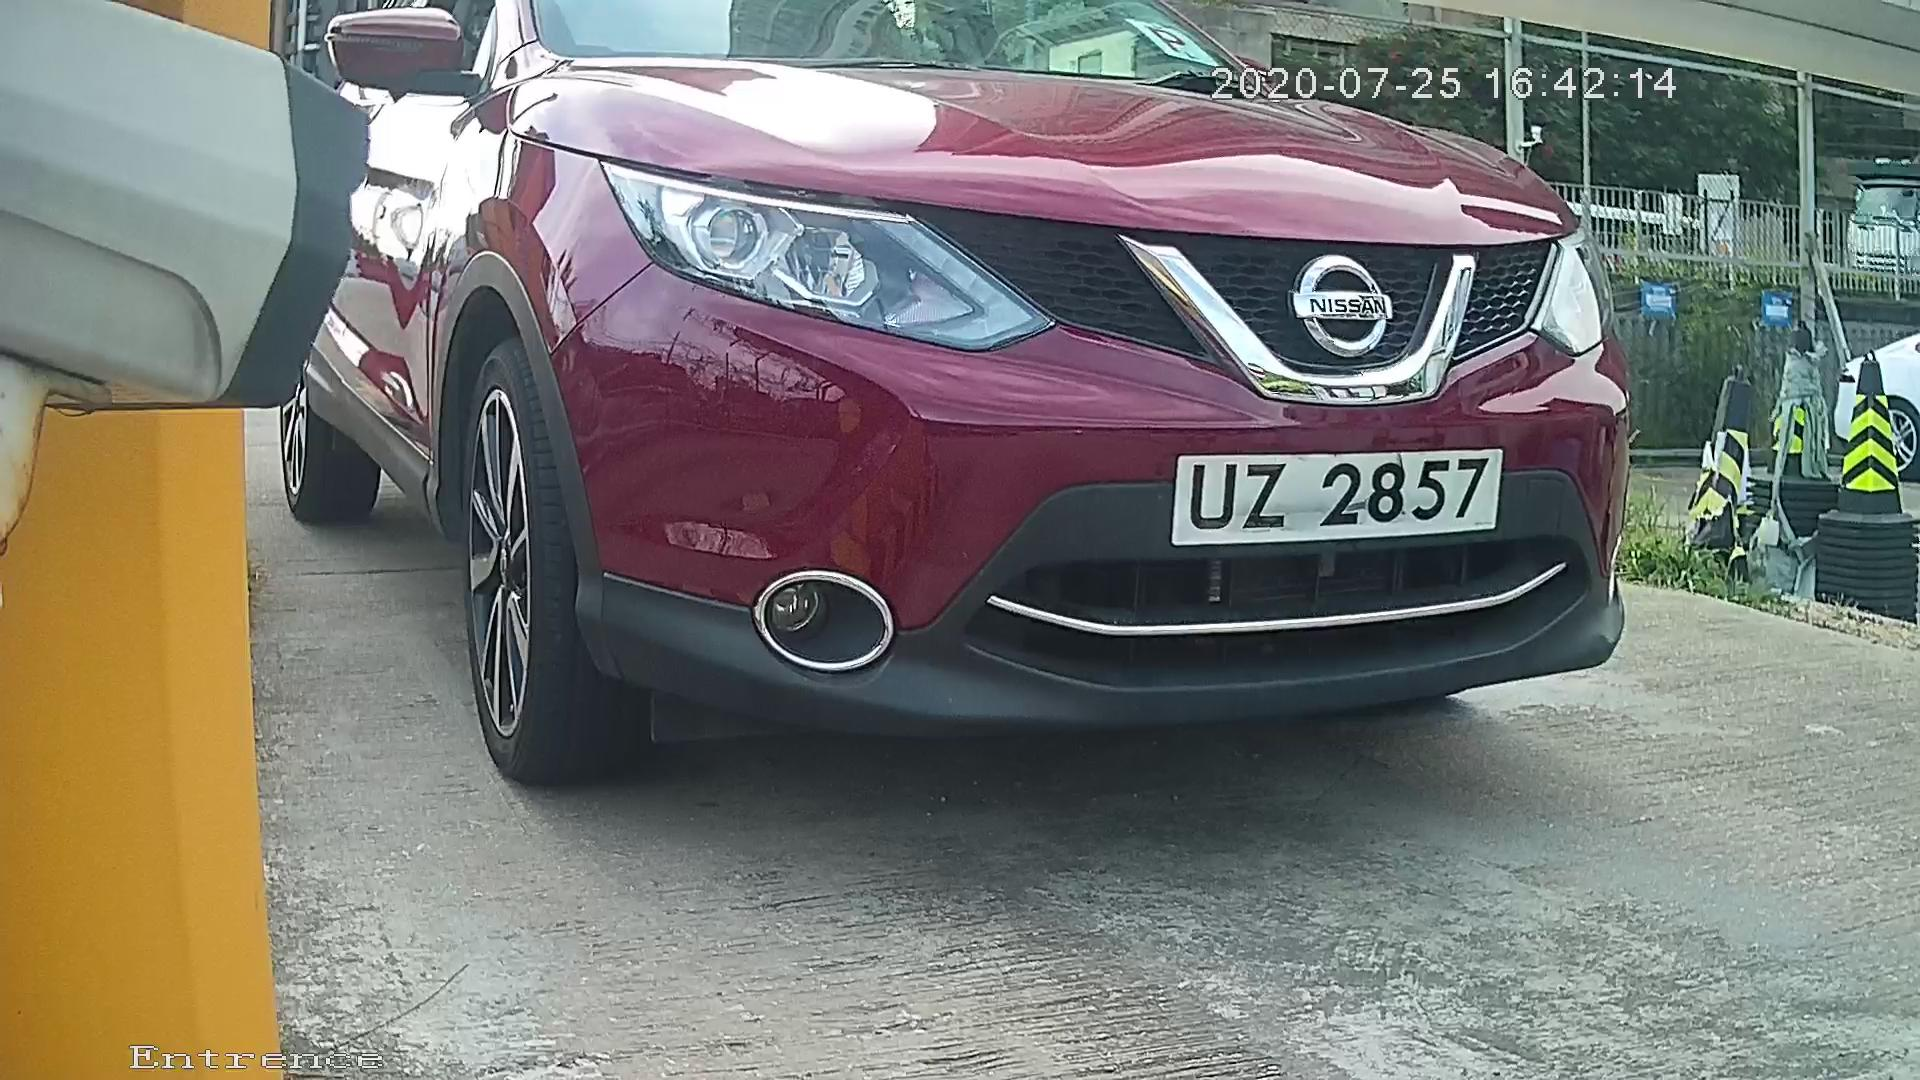License Plate: (1132, 430, 1526, 555)
